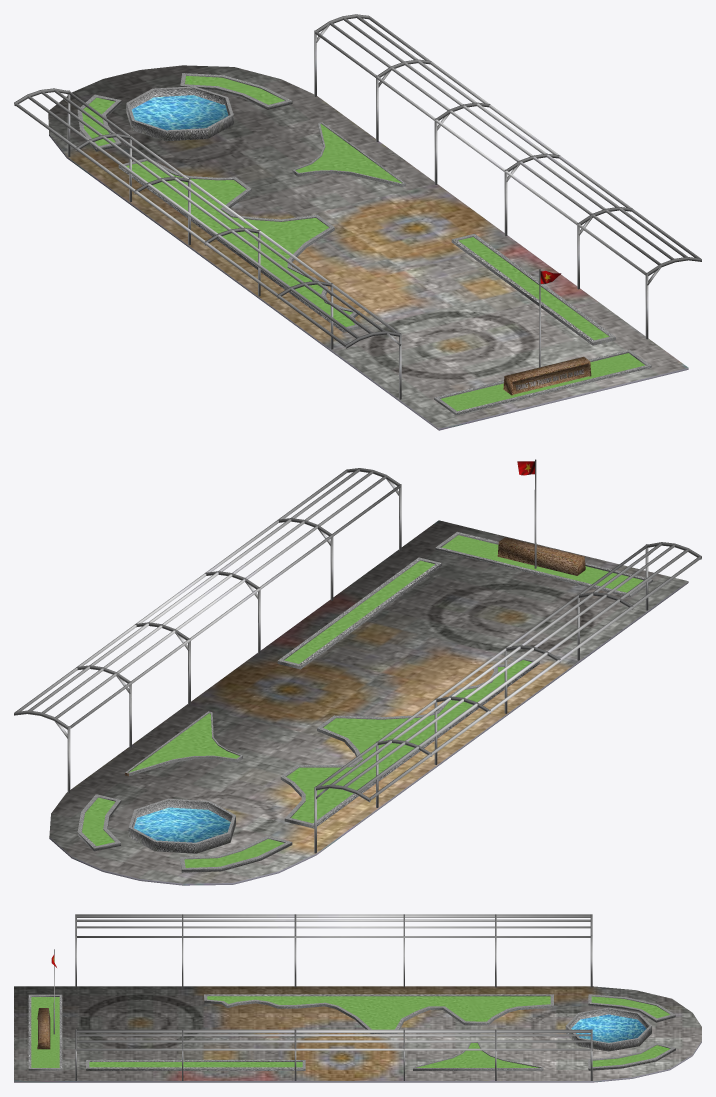
The picture shows the model from 3 angles, top to bottom: view 1: azimuth 30°, elevation 25°; view 2: azimuth 150°, elevation 25°; view 3: azimuth 270°, elevation 25°; orthographic projection. The views are drawn at different scales.
Visible parts, largest first — view 1: 5c0f931e0aa89516782a26a2.001; view 2: 5c0f931e0aa89516782a26a2.001; view 3: 5c0f931e0aa89516782a26a2.001.
Part boxes in pixels (x1=…): 5c0f931e0aa89516782a26a2.001: x1=14, y1=14, x2=701, y2=430; 5c0f931e0aa89516782a26a2.001: x1=14, y1=459, x2=701, y2=885; 5c0f931e0aa89516782a26a2.001: x1=14, y1=914, x2=701, y2=1082.
Bounding box in the file's own units: 19.91 × 5.96 × 42.9.
1 material, 1 textured.
